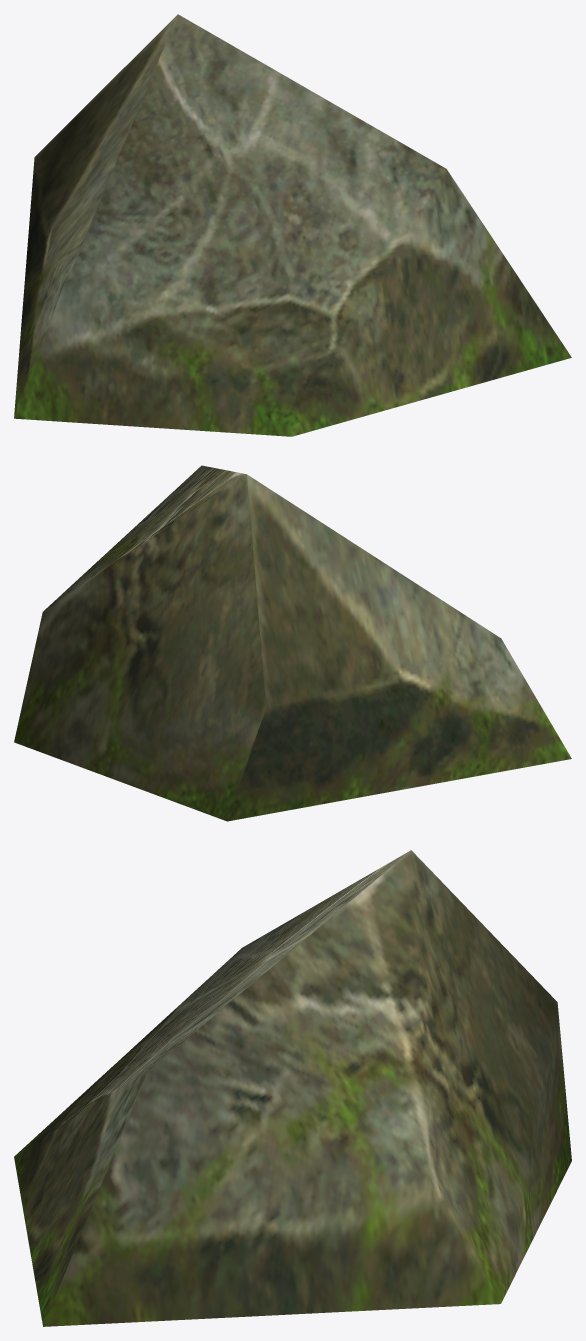
The model's file is Utility_Stone_Maincity03_04_LOD2.FBX.
3 views of the same model, one above another, from view 1: azimuth 30°, elevation 25°; view 2: azimuth 150°, elevation 25°; view 3: azimuth 270°, elevation 25° (orthographic). The views are drawn at different scales.
Visible parts, largest first — view 1: cmc_shitou04_LOD2; view 2: cmc_shitou04_LOD2; view 3: cmc_shitou04_LOD2.
Part boxes in pixels (bbox=[...]): cmc_shitou04_LOD2: bbox=[14, 14, 571, 436]; cmc_shitou04_LOD2: bbox=[14, 465, 571, 821]; cmc_shitou04_LOD2: bbox=[14, 850, 571, 1326].
Size of the model in its own units: 171 by 97.57 by 145.
